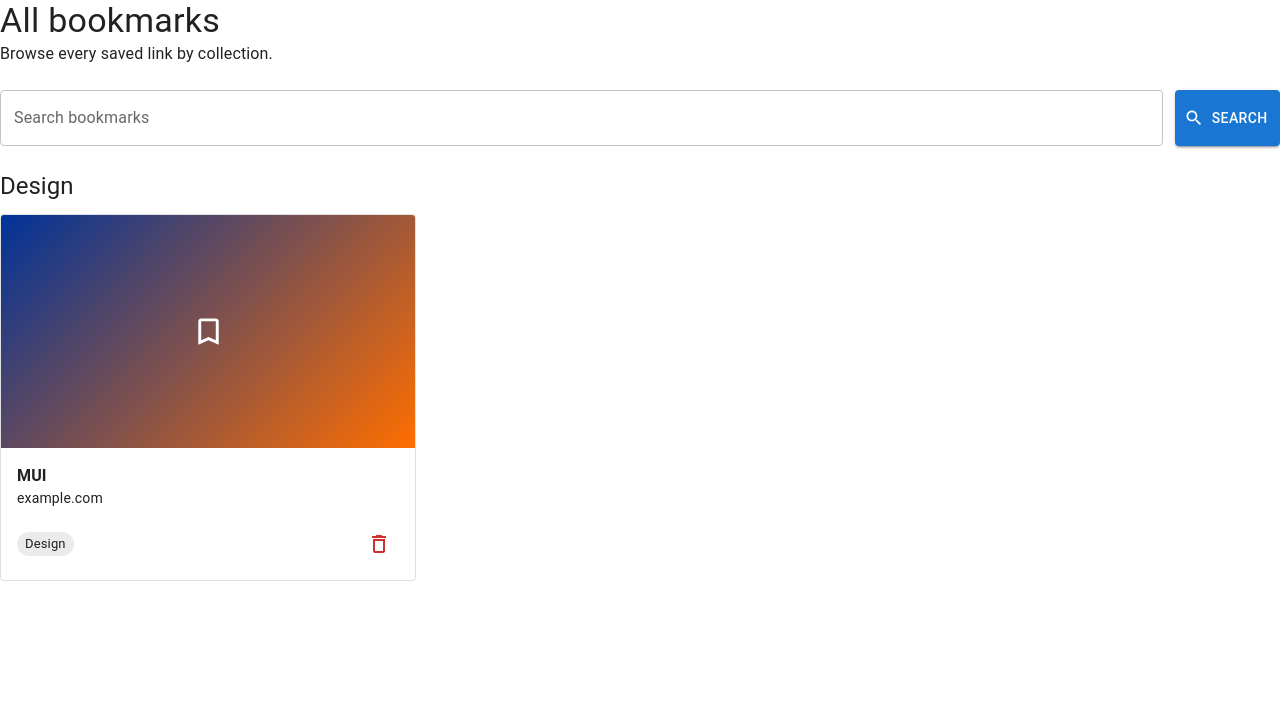
Test case: deletes a bookmark after confirmation and removes its card
Click the button named "Delete bookmark" at {"x": 379, "y": 544}, box [359, 524, 399, 564]
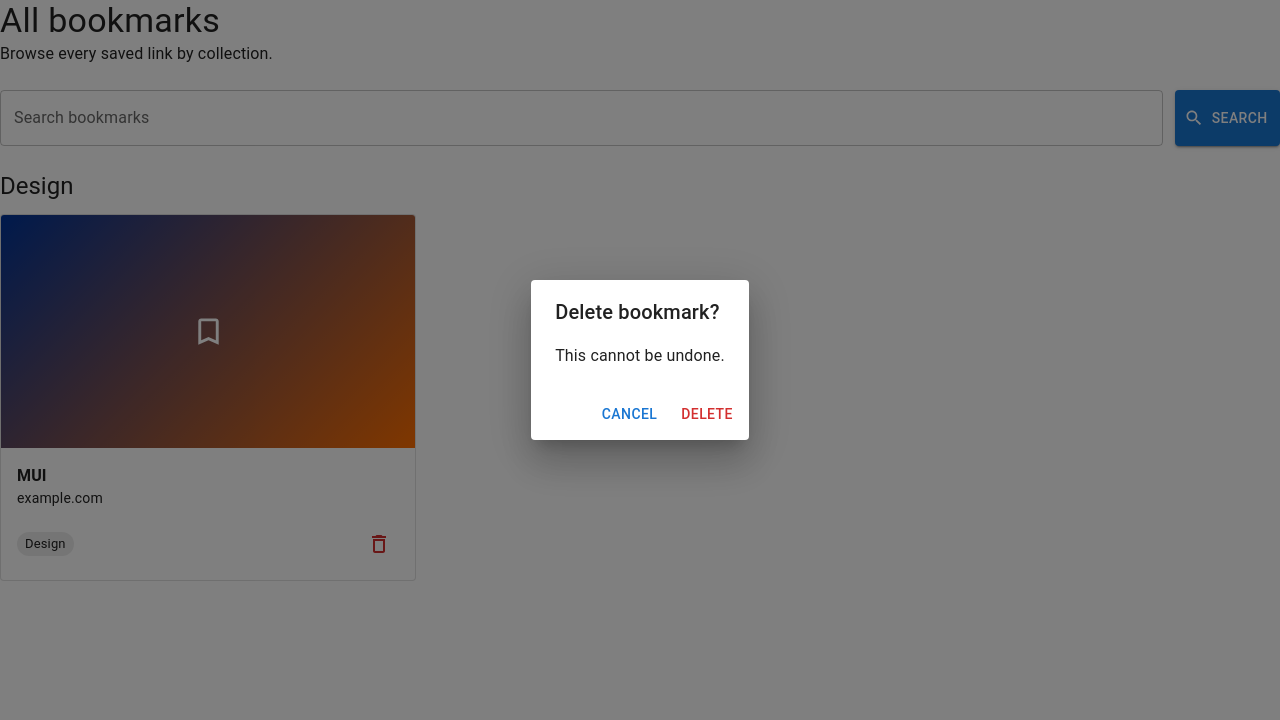
Click the button "Delete" at {"x": 707, "y": 414}, box [673, 396, 741, 432]
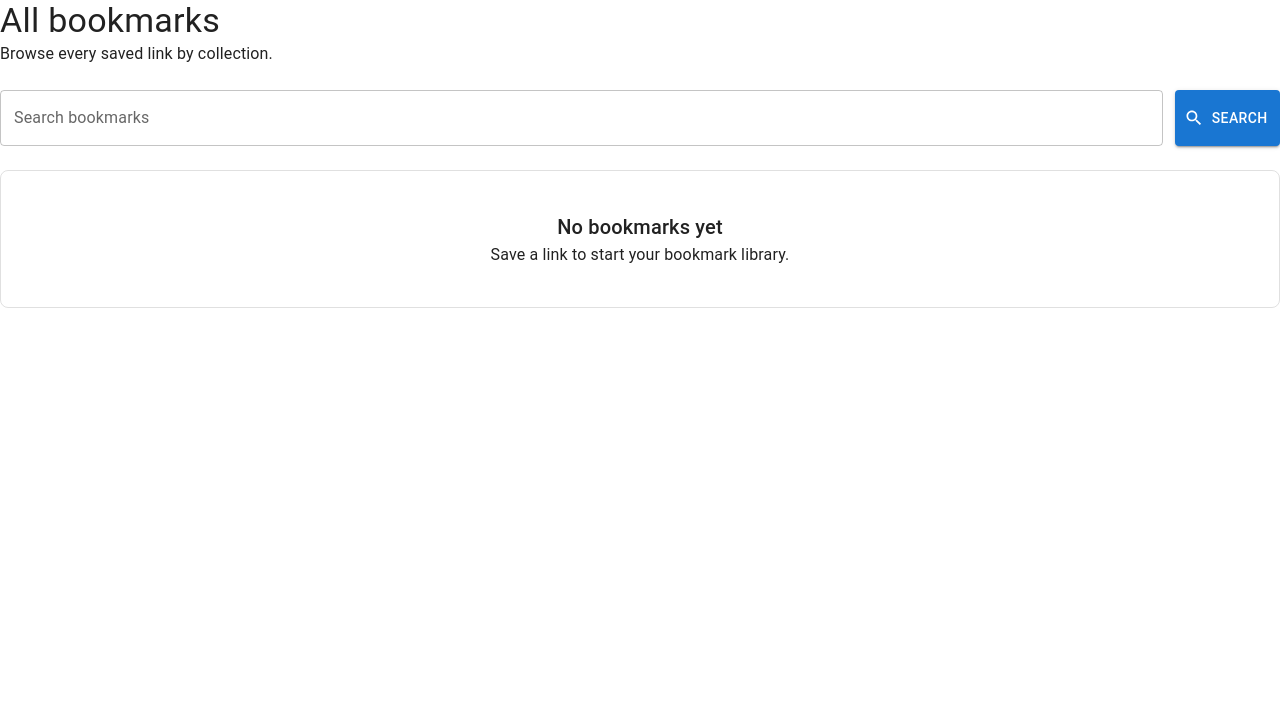
Check: the link "MUI" is gone
